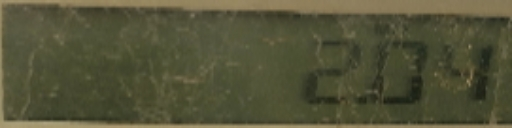0: (374, 35, 427, 106)
2: (308, 34, 358, 107)
4: (440, 31, 491, 109)
d: (356, 91, 369, 105)
